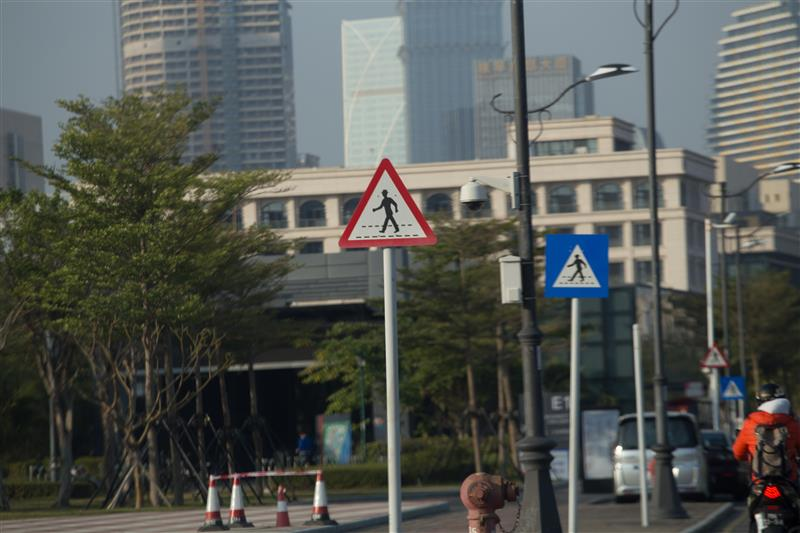pedestrianCrossing: (534, 236, 607, 292)
pedestrianCrossingR: (338, 158, 437, 246)
